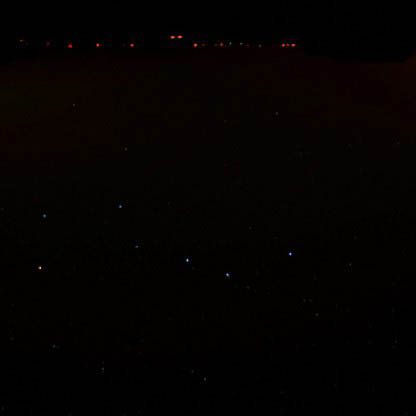Ursa Major: (110, 196, 137, 220), (124, 237, 146, 258), (179, 248, 197, 273), (29, 258, 52, 277), (37, 203, 55, 226), (281, 245, 301, 263), (220, 263, 237, 284)
